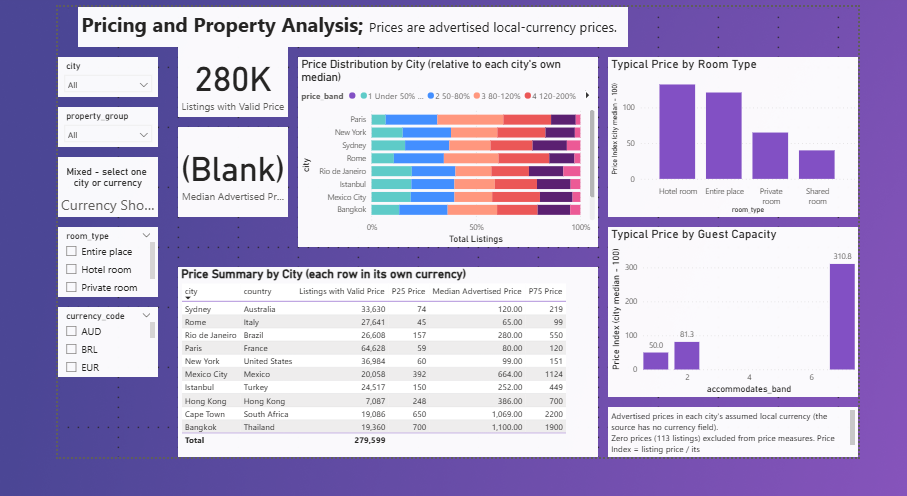

This screenshot's page, from the dashboard's own definition file:
{"tool":"powerbi","page":{"name":"Pricing and Property","canvas":[1280,720],"ordinal":2},"visuals":[{"type":"slicer","fields":{"Values":["dim_city.city"]},"box":[0,80,160,64],"z":0},{"type":"slicer","fields":{"Values":["dim_listing.room_type"]},"box":[0,352,160,112],"z":1000},{"type":"slicer","fields":{"Values":["dim_listing.property_group"]},"box":[0,160,160,64],"z":2000},{"type":"slicer","fields":{"Values":["dim_city.currency_code"]},"box":[0,480,160,112],"z":3000},{"type":"textbox","box":[32,0,880,64],"z":4000},{"type":"card","fields":{"Values":["dim_listing.Currency Shown"]},"box":[0,240,160,96],"z":5000},{"type":"card","fields":{"Values":["dim_listing.Median Advertised Price"]},"box":[192,192,176,144],"z":6000},{"type":"card","fields":{"Values":["dim_listing.Listings with Valid Price"]},"box":[192,64,176,112],"z":7000},{"type":"tableEx","title":"Price Summary by City (each row in its own currency)","fields":{"Values":["dim_city.city","dim_city.country","dim_listing.Listings with Valid Price","dim_listing.P25 Price","dim_listing.Median Advertised Price","dim_listing.P75 Price"]},"box":[192,416,672,304],"z":8000},{"type":"hundredPercentStackedBarChart","title":"Price Distribution by City (relative to each city''s own median)","fields":{"Category":["dim_city.city"],"Series":["dim_listing.price_band"],"Y":["dim_listing.Total Listings"]},"box":[384,80,480,304],"z":9000},{"type":"clusteredColumnChart","title":"Typical Price by Room Type ","fields":{"Category":["dim_listing.room_type"],"Y":["dim_listing.Price Index (city median - 100)"]},"box":[880,80,400,256],"z":10000},{"type":"clusteredColumnChart","title":"Typical Price by Guest Capacity","fields":{"Category":["dim_listing.accommodates_band"],"Y":["dim_listing.Price Index (city median - 100)"]},"box":[880,352,400,272],"z":11000},{"type":"textbox","box":[880,640,400,80],"z":12000}]}

Visuals, with their boxes in screenshot pixels (x1, y1, x2, y2), scaled from the page's 1280x720 canvas onto the 907x496 screenshot:
slicer - dim_city.city: <box>0,55,113,99</box>
slicer - dim_listing.room_type: <box>0,242,113,320</box>
slicer - dim_listing.property_group: <box>0,110,113,154</box>
slicer - dim_city.currency_code: <box>0,331,113,408</box>
textbox: <box>23,0,646,44</box>
card - dim_listing.Currency Shown: <box>0,165,113,231</box>
card - dim_listing.Median Advertised Price: <box>136,132,261,231</box>
card - dim_listing.Listings with Valid Price: <box>136,44,261,121</box>
"Price Summary by City (each row in its own currency)" tableEx: <box>136,287,612,495</box>
"Price Distribution by City (relative to each city''s own median)" hundredPercentStackedBarChart: <box>272,55,612,265</box>
"Typical Price by Room Type " clusteredColumnChart: <box>624,55,906,231</box>
"Typical Price by Guest Capacity" clusteredColumnChart: <box>624,242,906,430</box>
textbox: <box>624,441,906,495</box>
